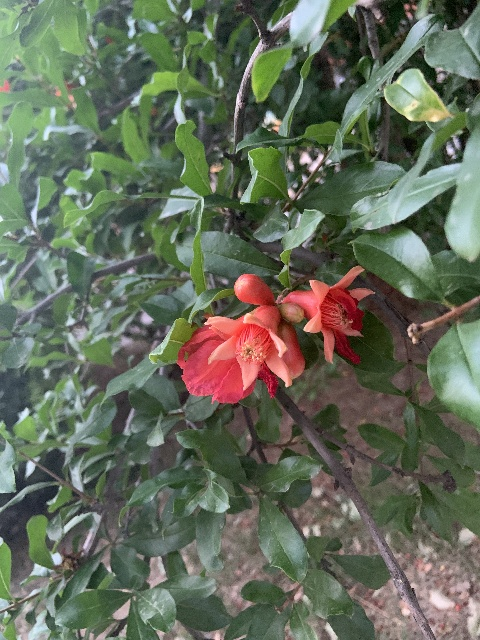bud: (278, 322, 305, 379), (234, 273, 274, 305), (280, 303, 303, 323)
flower: (176, 305, 292, 404), (282, 266, 375, 364)
